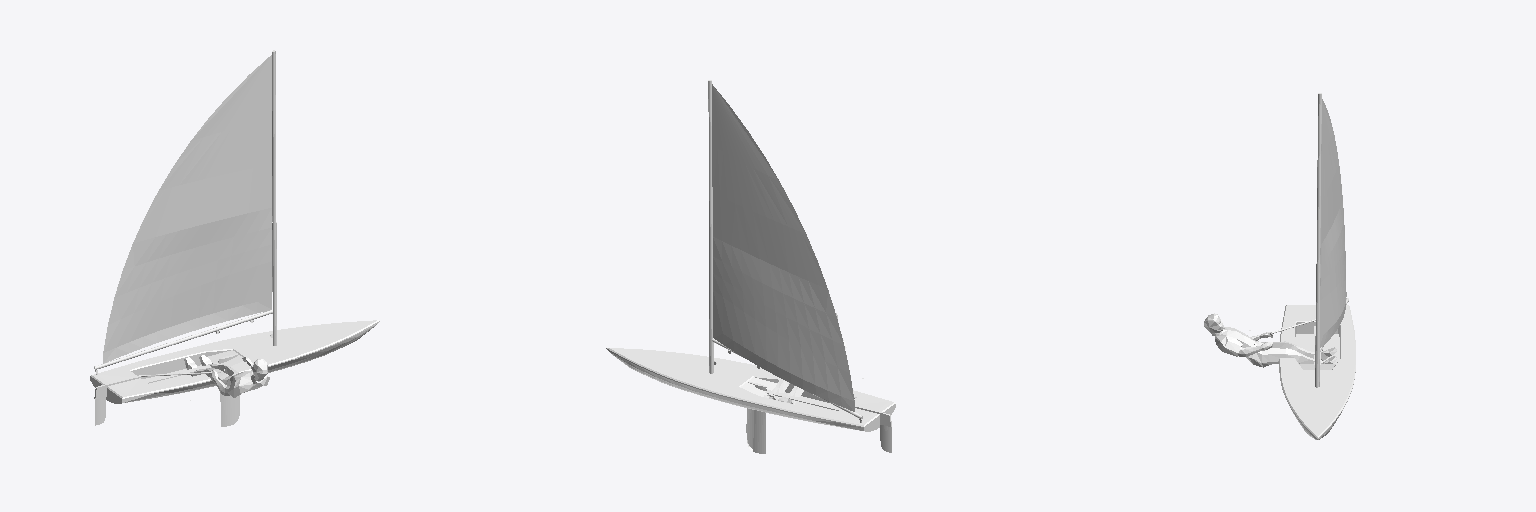
Rendered from boot2.obj.
3 renders of one model, left to right at view 1: azimuth 30°, elevation 25°; view 2: azimuth 150°, elevation 25°; view 3: azimuth 270°, elevation 25°, orthographic.
Parts seen in each view (by area): view 1: group_0_6, group_0, group_1, group_2, group_8, shirt-3, group_0_2; view 2: group_0_6, group_0, group_8, group_2; view 3: group_0, group_0_6, shirt-3, group_2, group_0_2.
Boxes of the visible parts, x1,y1,x2,y2 form: group_0_6: [103, 55, 271, 363]; group_0: [90, 320, 379, 425]; group_1: [94, 310, 272, 369]; group_2: [272, 50, 275, 222]; group_8: [219, 354, 239, 426]; shirt-3: [228, 371, 269, 397]; group_0_2: [272, 222, 276, 345]; group_0_6: [712, 84, 854, 411]; group_0: [606, 348, 895, 452]; group_8: [746, 382, 766, 453]; group_2: [708, 80, 712, 250]; group_0: [1279, 305, 1355, 439]; group_0_6: [1320, 99, 1346, 347]; shirt-3: [1215, 327, 1254, 357]; group_2: [1317, 93, 1321, 264]; group_0_2: [1315, 263, 1320, 387].
Bounding box in the file's own units: 173 × 209 × 79.54.